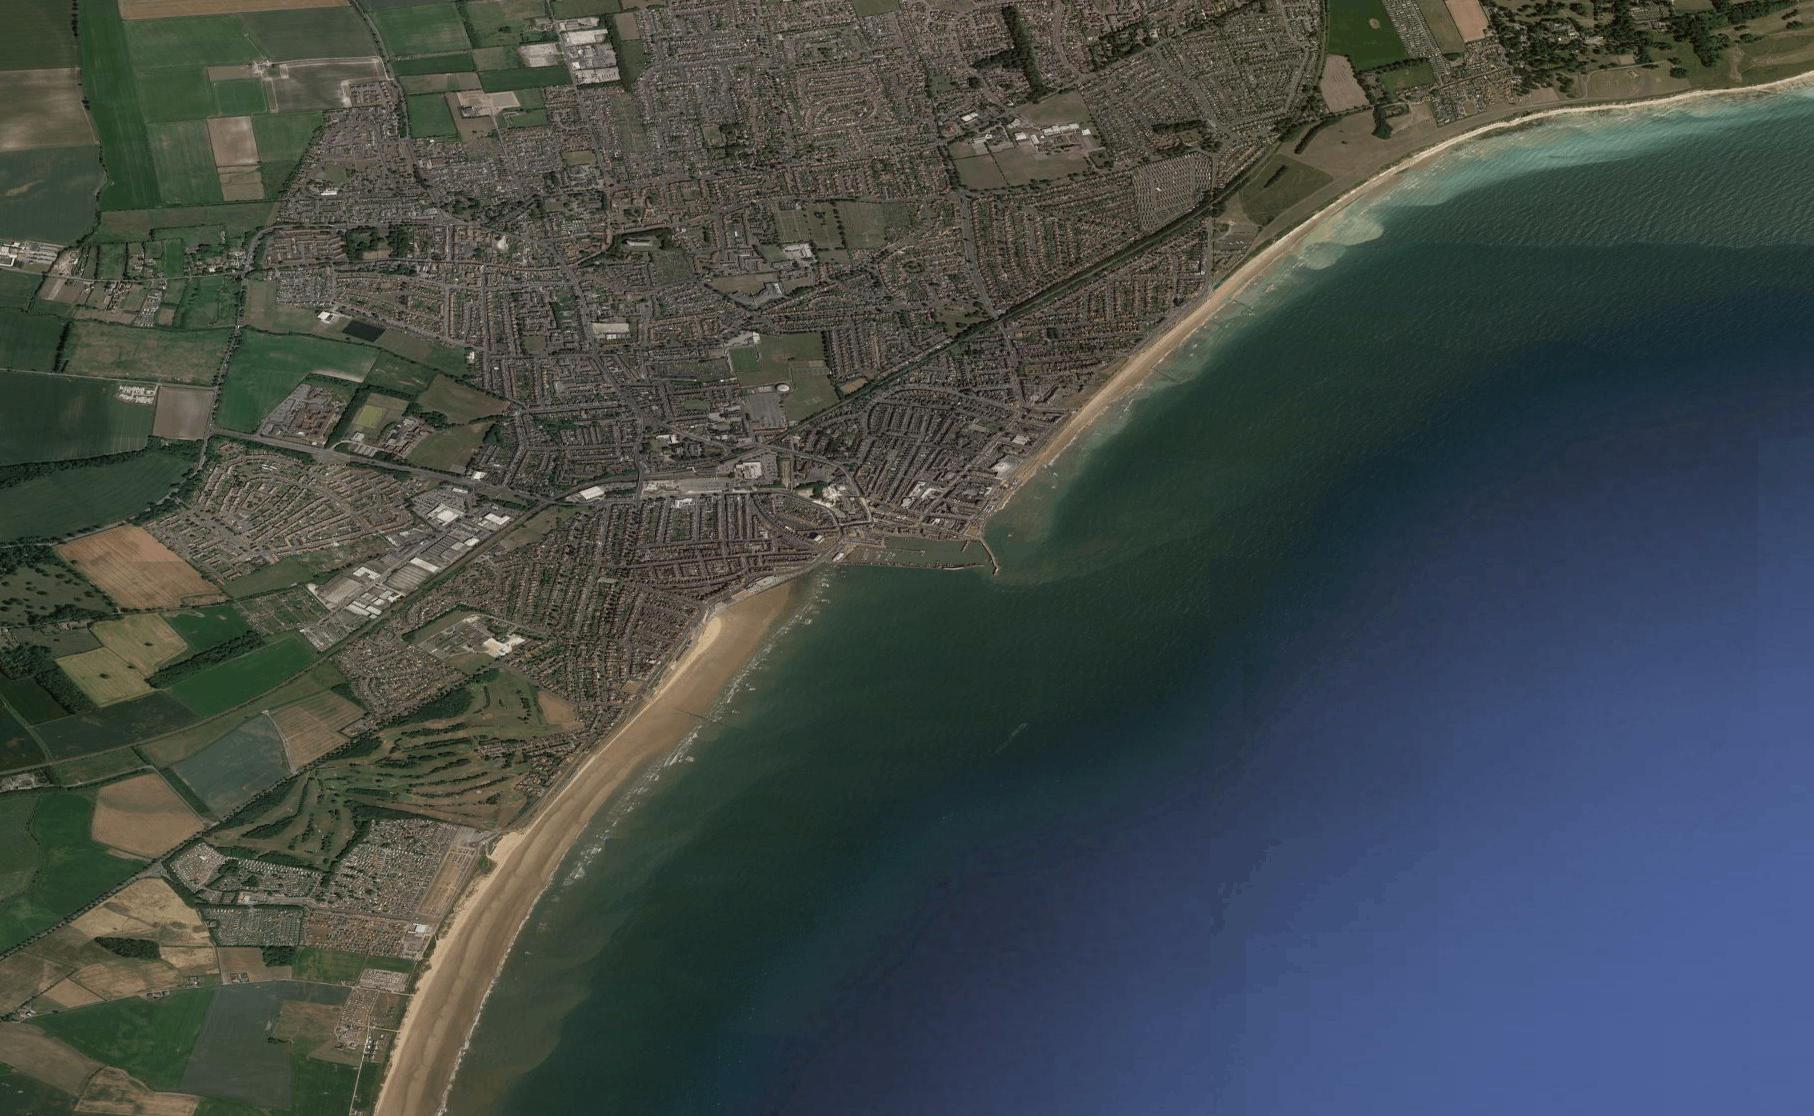bridge: (636, 467, 649, 486)
harbor: (840, 511, 1002, 596)
train_station: (679, 463, 720, 480)
